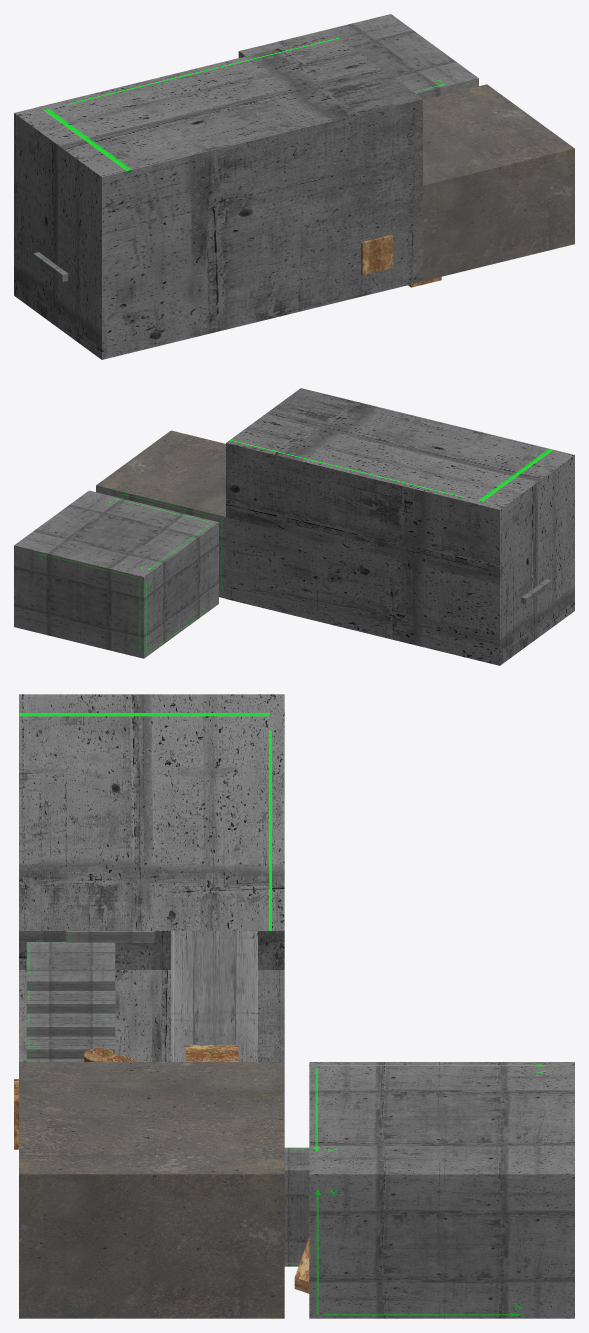
Rendered from maptest0_complex.dae.
3 renders of one model, top to bottom at view 1: azimuth 30°, elevation 25°; view 2: azimuth 150°, elevation 25°; view 3: azimuth 270°, elevation 25°, orthographic. The views are drawn at different scales.
Parts seen in each view (by area): view 1: polySurface13, polySurface9, polySurface5, polySurface11, polySurface15, _ref_woodbox_box04, polySurface14, pasted__pasted__pasted__pasted__pasted__pasted__pasted__past; view 2: polySurface12, polySurface9, polySurface15, polySurface11, polySurface5, polySurface14, polySurface6; view 3: polySurface5, polySurface9, polySurface14, polySurface15, pCube7, polySurface10, pasted__pasted__pasted__pasted__pasted__pCube6, polySurface11, polySurface7, pasted__pasted__pasted__pCube6, pasted__pasted__pasted__pasted__pCube6, pasted__pasted__pCube6 (+2 smaller).
Boxes of the visible parts, x1,y1,x2,y2 form: polySurface13: (102,99,422,359); polySurface9: (14,34,422,176); polySurface5: (422,84,574,281); polySurface11: (14,113,101,359); polySurface15: (239,14,478,93); _ref_woodbox_box04: (361,234,393,274); polySurface14: (238,51,478,99); pasted__pasted__pasted__pasted__pasted__pasted__pasted__past: (33,252,68,281); polySurface12: (226,443,499,665); polySurface9: (226,388,574,509); polySurface15: (14,490,218,658); polySurface11: (500,455,574,665); polySurface5: (96,430,225,516); polySurface14: (144,522,218,658); polySurface6: (96,485,225,598); polySurface5: (19,1062,284,1318); polySurface9: (19,694,284,930); polySurface14: (309,1174,574,1318); polySurface15: (309,1062,574,1174); pCube7: (171,931,257,1061); polySurface10: (19,970,284,1061); pasted__pasted__pasted__pasted__pasted__pCube6: (26,942,115,990); polySurface11: (19,931,284,969); polySurface7: (284,1147,309,1266); pasted__pasted__pasted__pCube6: (26,1013,115,1036); pasted__pasted__pasted__pasted__pCube6: (26,991,115,1013); pasted__pasted__pCube6: (26,1036,115,1059).
Bounding box in the file's own units: 15.73 × 5.87 × 10.56.
